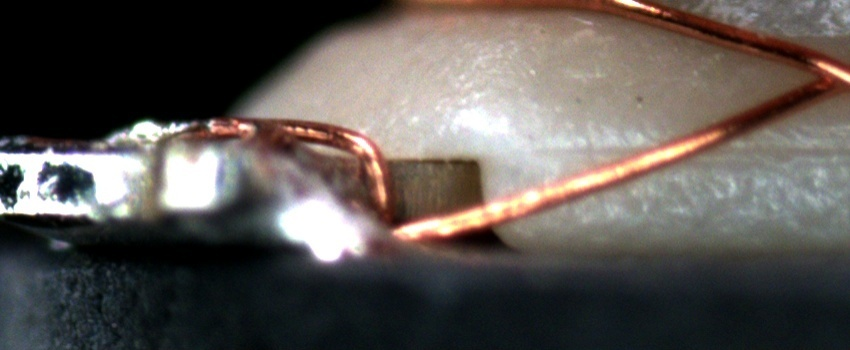CL: (792, 48, 850, 103)
DL: (540, 123, 850, 185)
TE: (199, 114, 400, 227)
